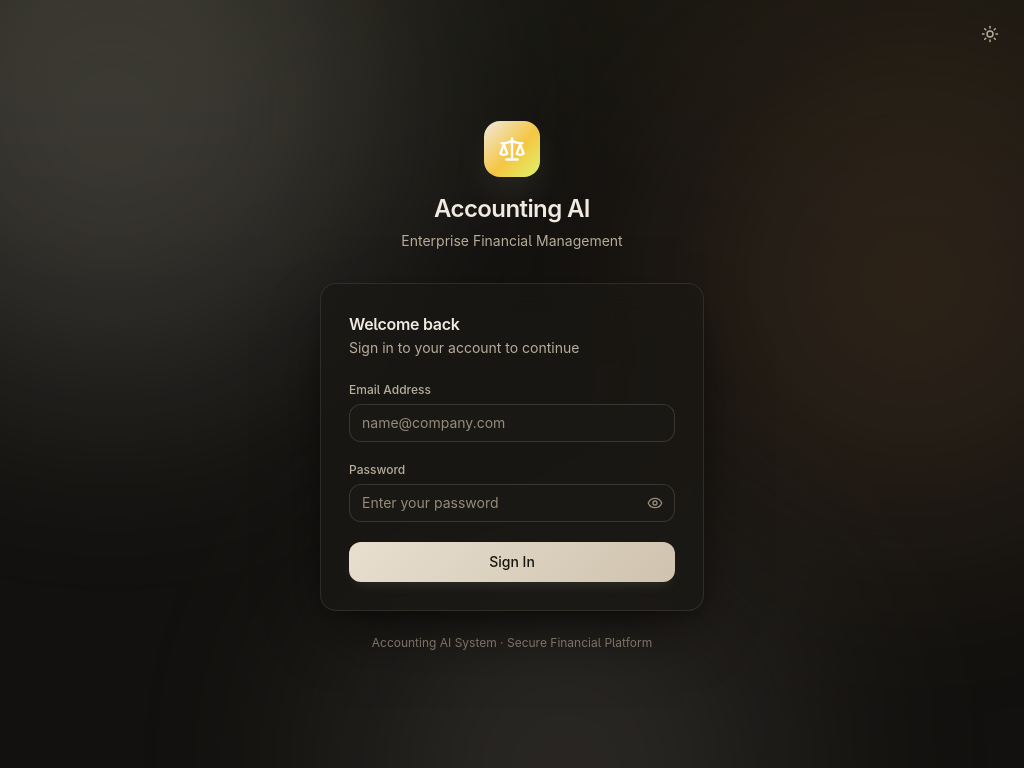
it: the login form says why a sign-in failed › says so when the request never reached the server
In the field labelled "Email Address": {"x": 512, "y": 423} [349, 404, 675, 442], type "someone@acme-demo.com"
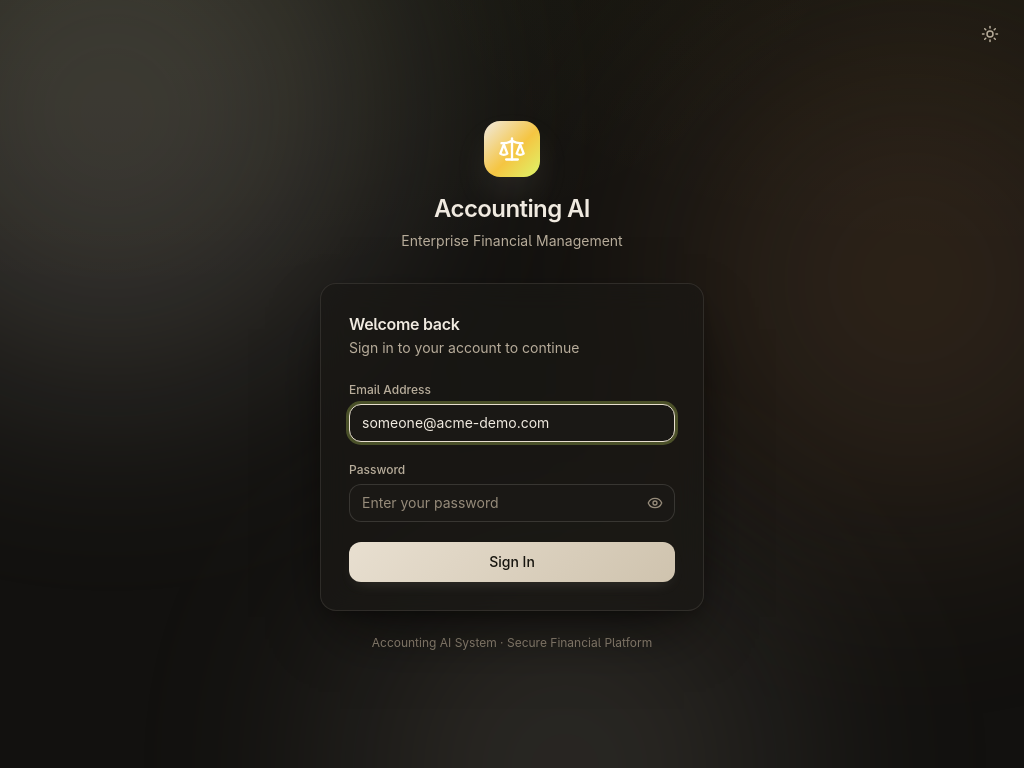
In the password field labelled "Password": {"x": 512, "y": 503} [349, 484, 675, 522], type "wrong-password"
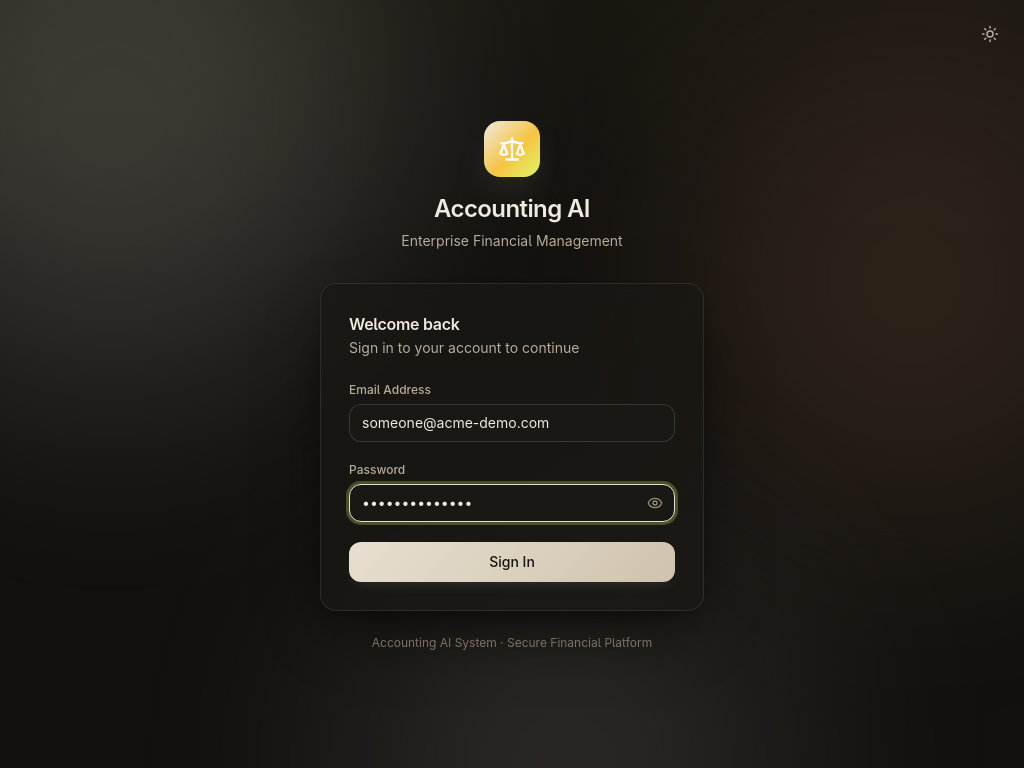
Click the button "Sign In": {"x": 512, "y": 562} [349, 542, 675, 582]
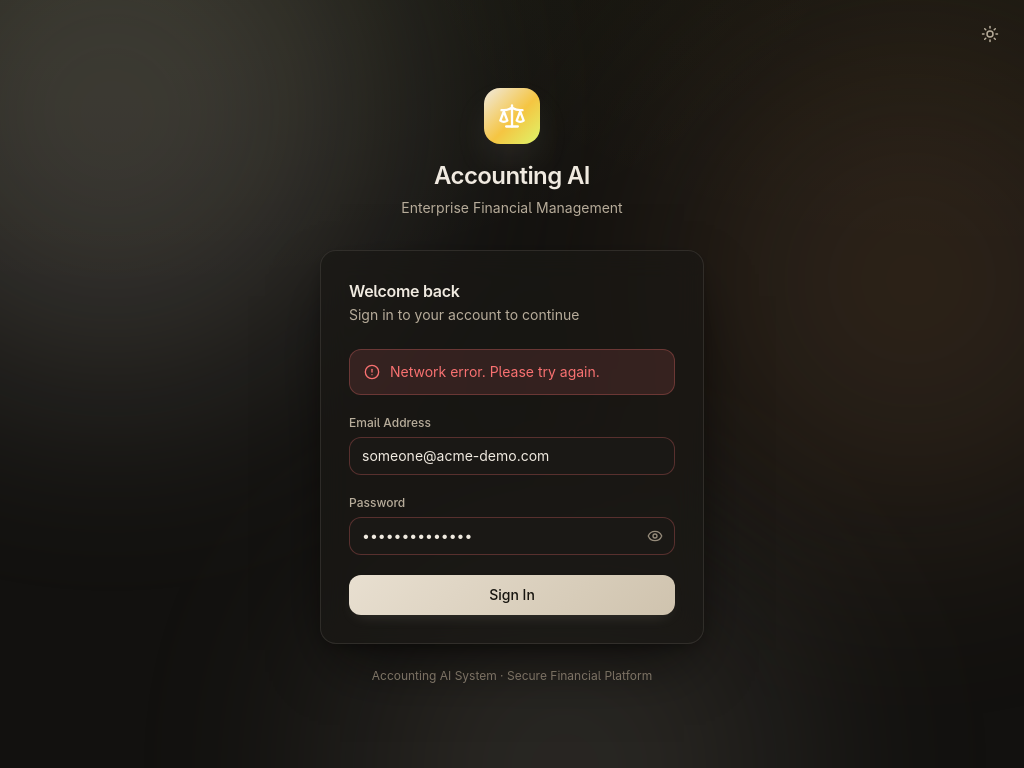
Check: the message reads "Network error. Please try again.", box [390, 363, 600, 380]
